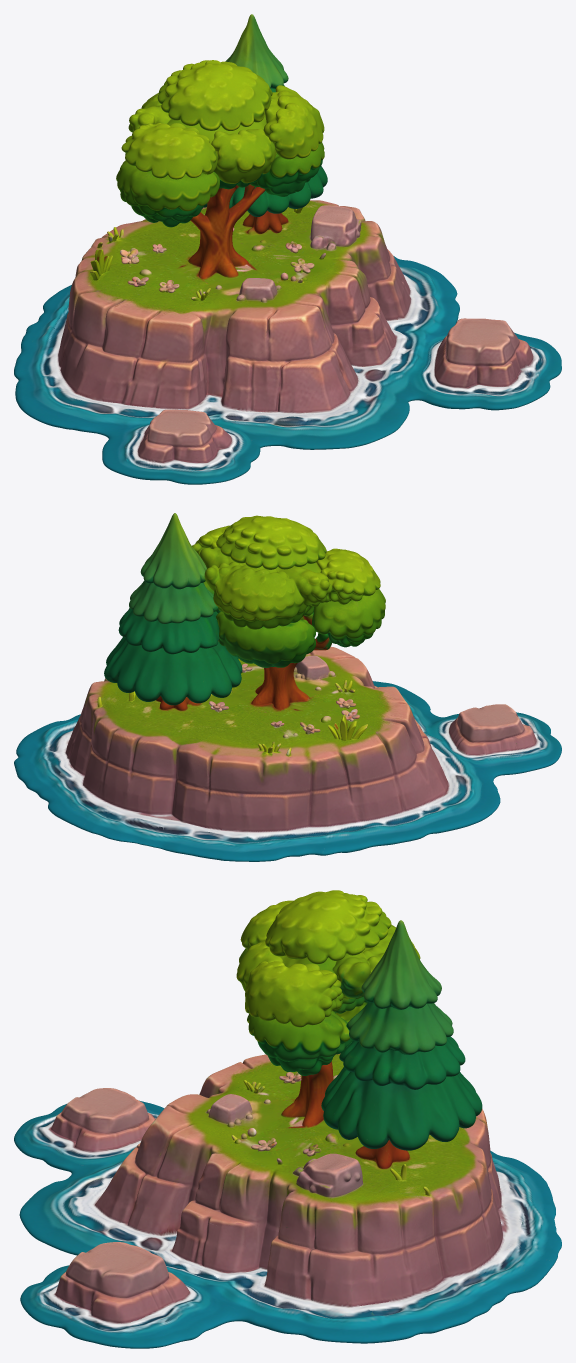
File: wooded-granite-islet-01.glb
3 renders of one model, top to bottom at view 1: azimuth 30°, elevation 25°; view 2: azimuth 150°, elevation 25°; view 3: azimuth 270°, elevation 25°, orthographic. The views are drawn at different scales.
Bounding box in the file's own units: 1.9 × 1.15 × 1.74.
1 material, 1 textured.
